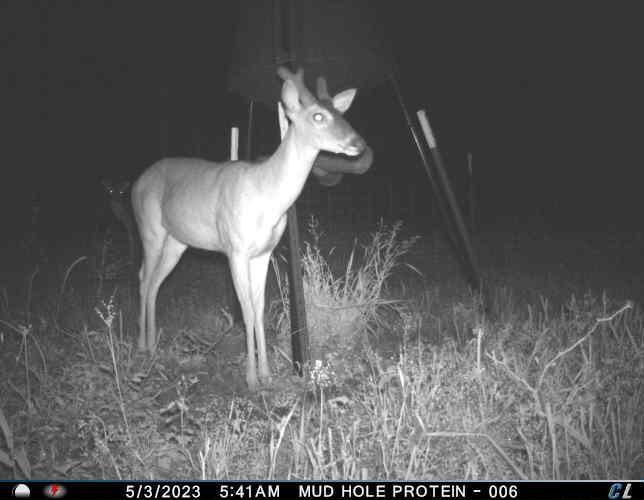Deer: (129, 64, 371, 398), (103, 174, 131, 231)
